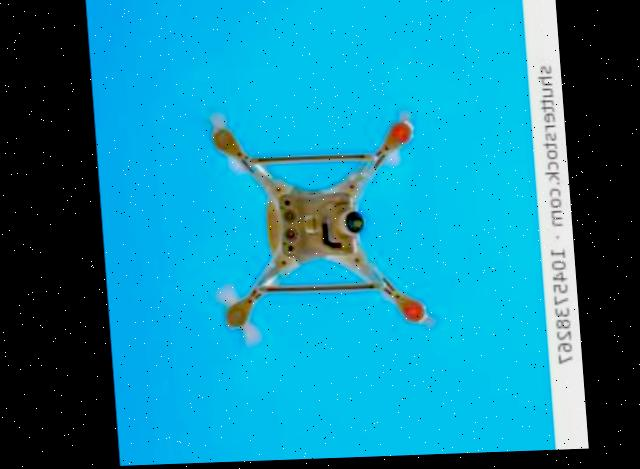drone: (154, 65, 455, 389)
